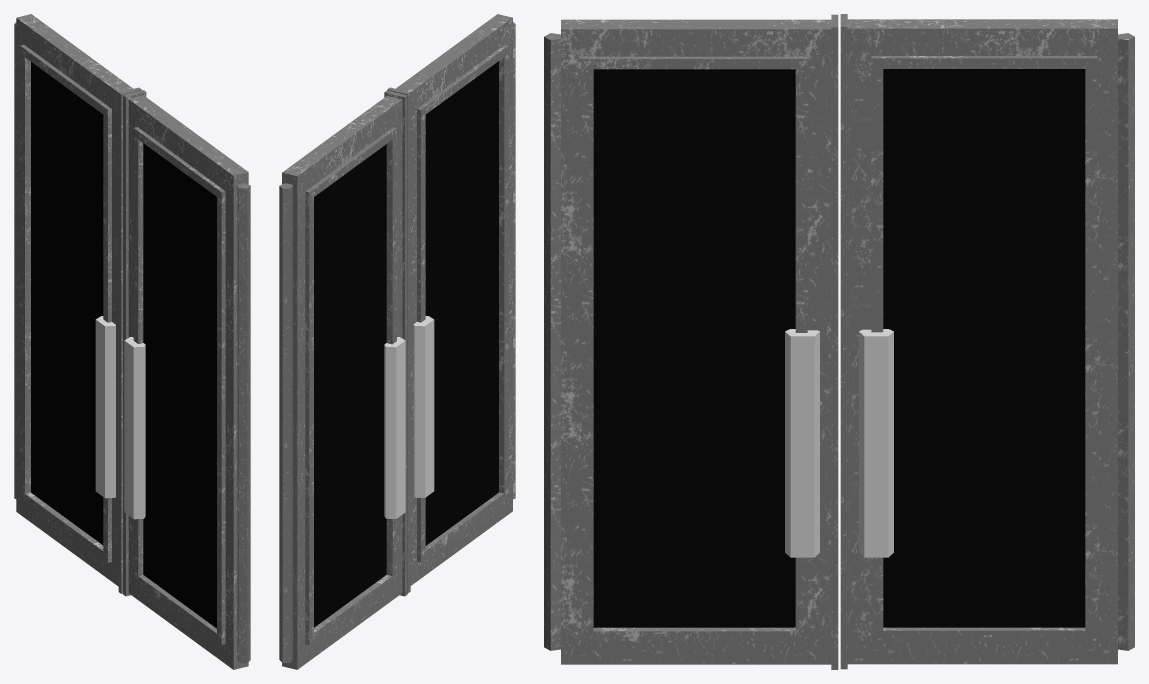
Rendered from Door.fbx.
3 renders of one model, left to right at view 1: azimuth 30°, elevation 25°; view 2: azimuth 150°, elevation 25°; view 3: azimuth 270°, elevation 25°, orthographic. The views are drawn at different scales.
Parts seen in each view (by area): view 1: Door; view 2: Door; view 3: Door.
Boxes of the visible parts, <box> form: Door: <box>14,14,250,669</box>; Door: <box>279,14,515,669</box>; Door: <box>544,14,1134,669</box>.
Size of the model in its own units: 18.21 by 244 by 204.
